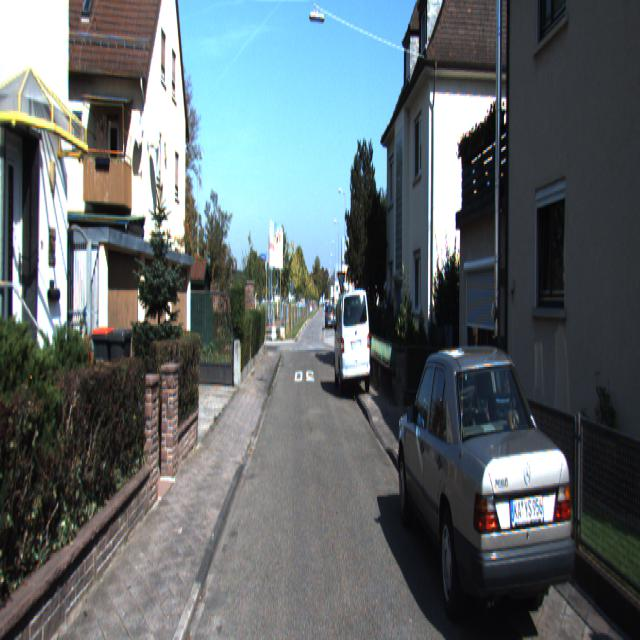Car: (395, 330, 580, 638), (333, 285, 369, 399)
